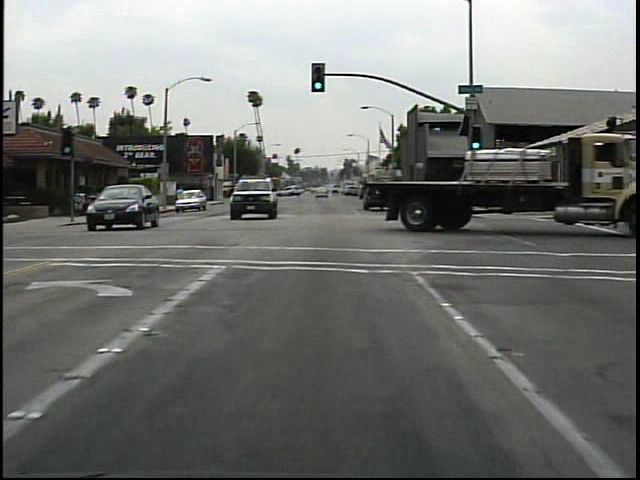person: (173, 182, 189, 206)
